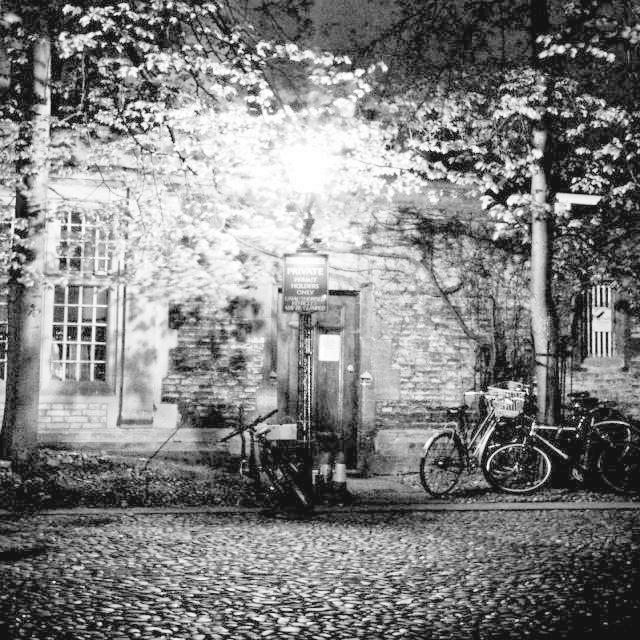Bicycle: (423, 380, 606, 505), (193, 417, 377, 523)
